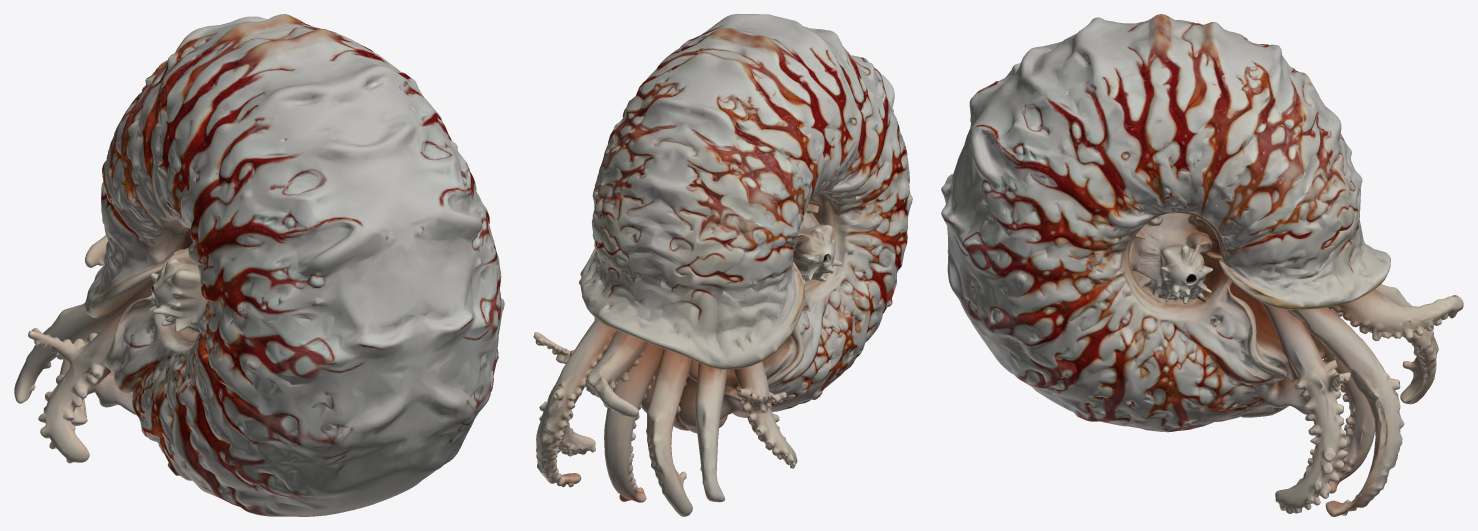
File: nautilus.glb
3 renders of one model, left to right at view 1: azimuth 30°, elevation 25°; view 2: azimuth 150°, elevation 25°; view 3: azimuth 270°, elevation 25°, orthographic. The views are drawn at different scales.
Parts seen in each view (by area): view 1: tripo_node_7827f5c9-ecc0-4e9e-bfb8-0bd3452e2fc0; view 2: tripo_node_7827f5c9-ecc0-4e9e-bfb8-0bd3452e2fc0; view 3: tripo_node_7827f5c9-ecc0-4e9e-bfb8-0bd3452e2fc0.
Part boxes in pixels (x1,y1,x2,y2): tripo_node_7827f5c9-ecc0-4e9e-bfb8-0bd3452e2fc0: [14, 14, 504, 516]; tripo_node_7827f5c9-ecc0-4e9e-bfb8-0bd3452e2fc0: [533, 14, 912, 516]; tripo_node_7827f5c9-ecc0-4e9e-bfb8-0bd3452e2fc0: [941, 14, 1463, 516].
Bounding box in the file's own units: 0.5824 × 0.924 × 0.9794.
Materials: 1 (1 with a texture image).
